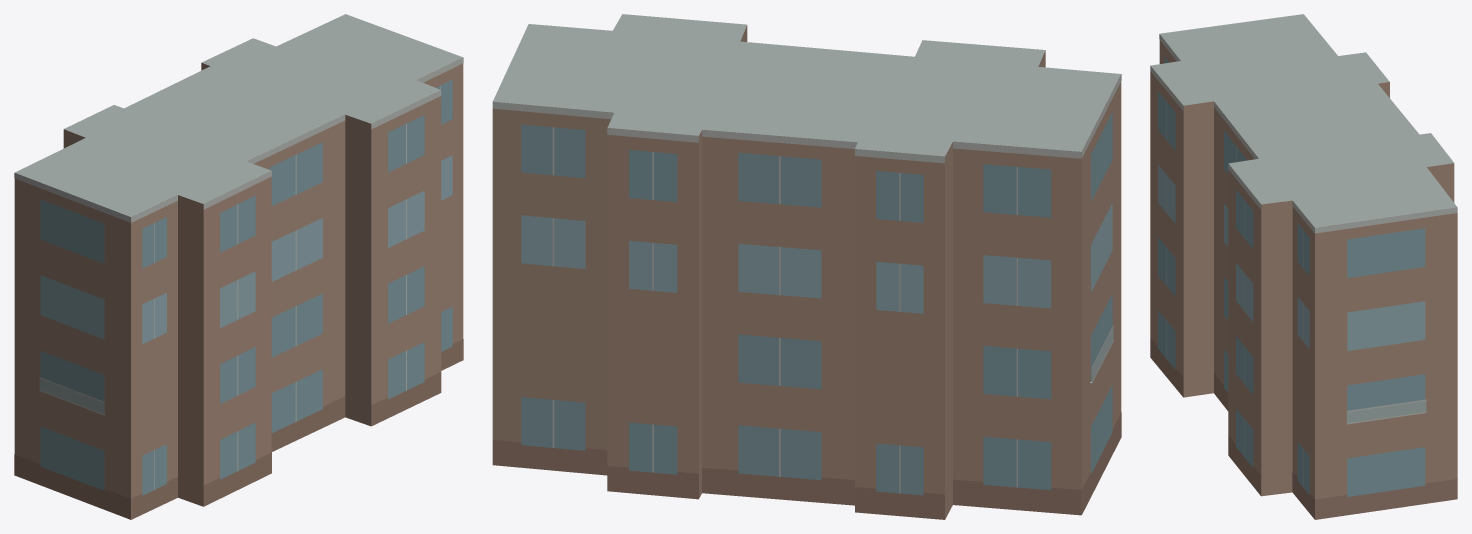
File: survey-upis-32759378.glb
3 views of the same model, side by side, from view 1: azimuth 30°, elevation 25°; view 2: azimuth 150°, elevation 25°; view 3: azimuth 270°, elevation 25° (orthographic). The views are drawn at different scales.
Visible parts, largest first — view 1: survey-upis-32759378.tmp; view 2: survey-upis-32759378.tmp; view 3: survey-upis-32759378.tmp.
Boxes of the visible parts, x1,y1,x2,y2 form: survey-upis-32759378.tmp: [14, 14, 463, 519]; survey-upis-32759378.tmp: [492, 14, 1121, 519]; survey-upis-32759378.tmp: [1150, 14, 1457, 519].
Bounding box in the file's own units: 20.14 × 12.8 × 12.22.
